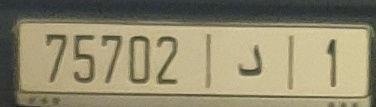0: (128, 34, 151, 85)
1: (324, 37, 338, 90)
2: (155, 35, 179, 86)
5: (73, 32, 96, 84)
7: (99, 34, 123, 85), (44, 33, 67, 84)
d: (236, 41, 265, 79)
